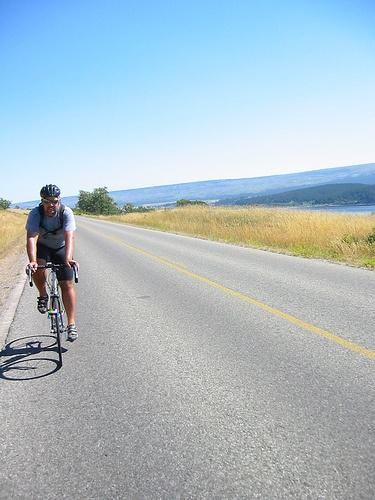car: (24, 260, 82, 366)
person: (24, 185, 82, 343)
person/foot: (35, 295, 49, 314), (67, 323, 79, 342)
person/hand: (25, 263, 38, 275), (66, 260, 79, 271)
person/head: (41, 186, 58, 215)
